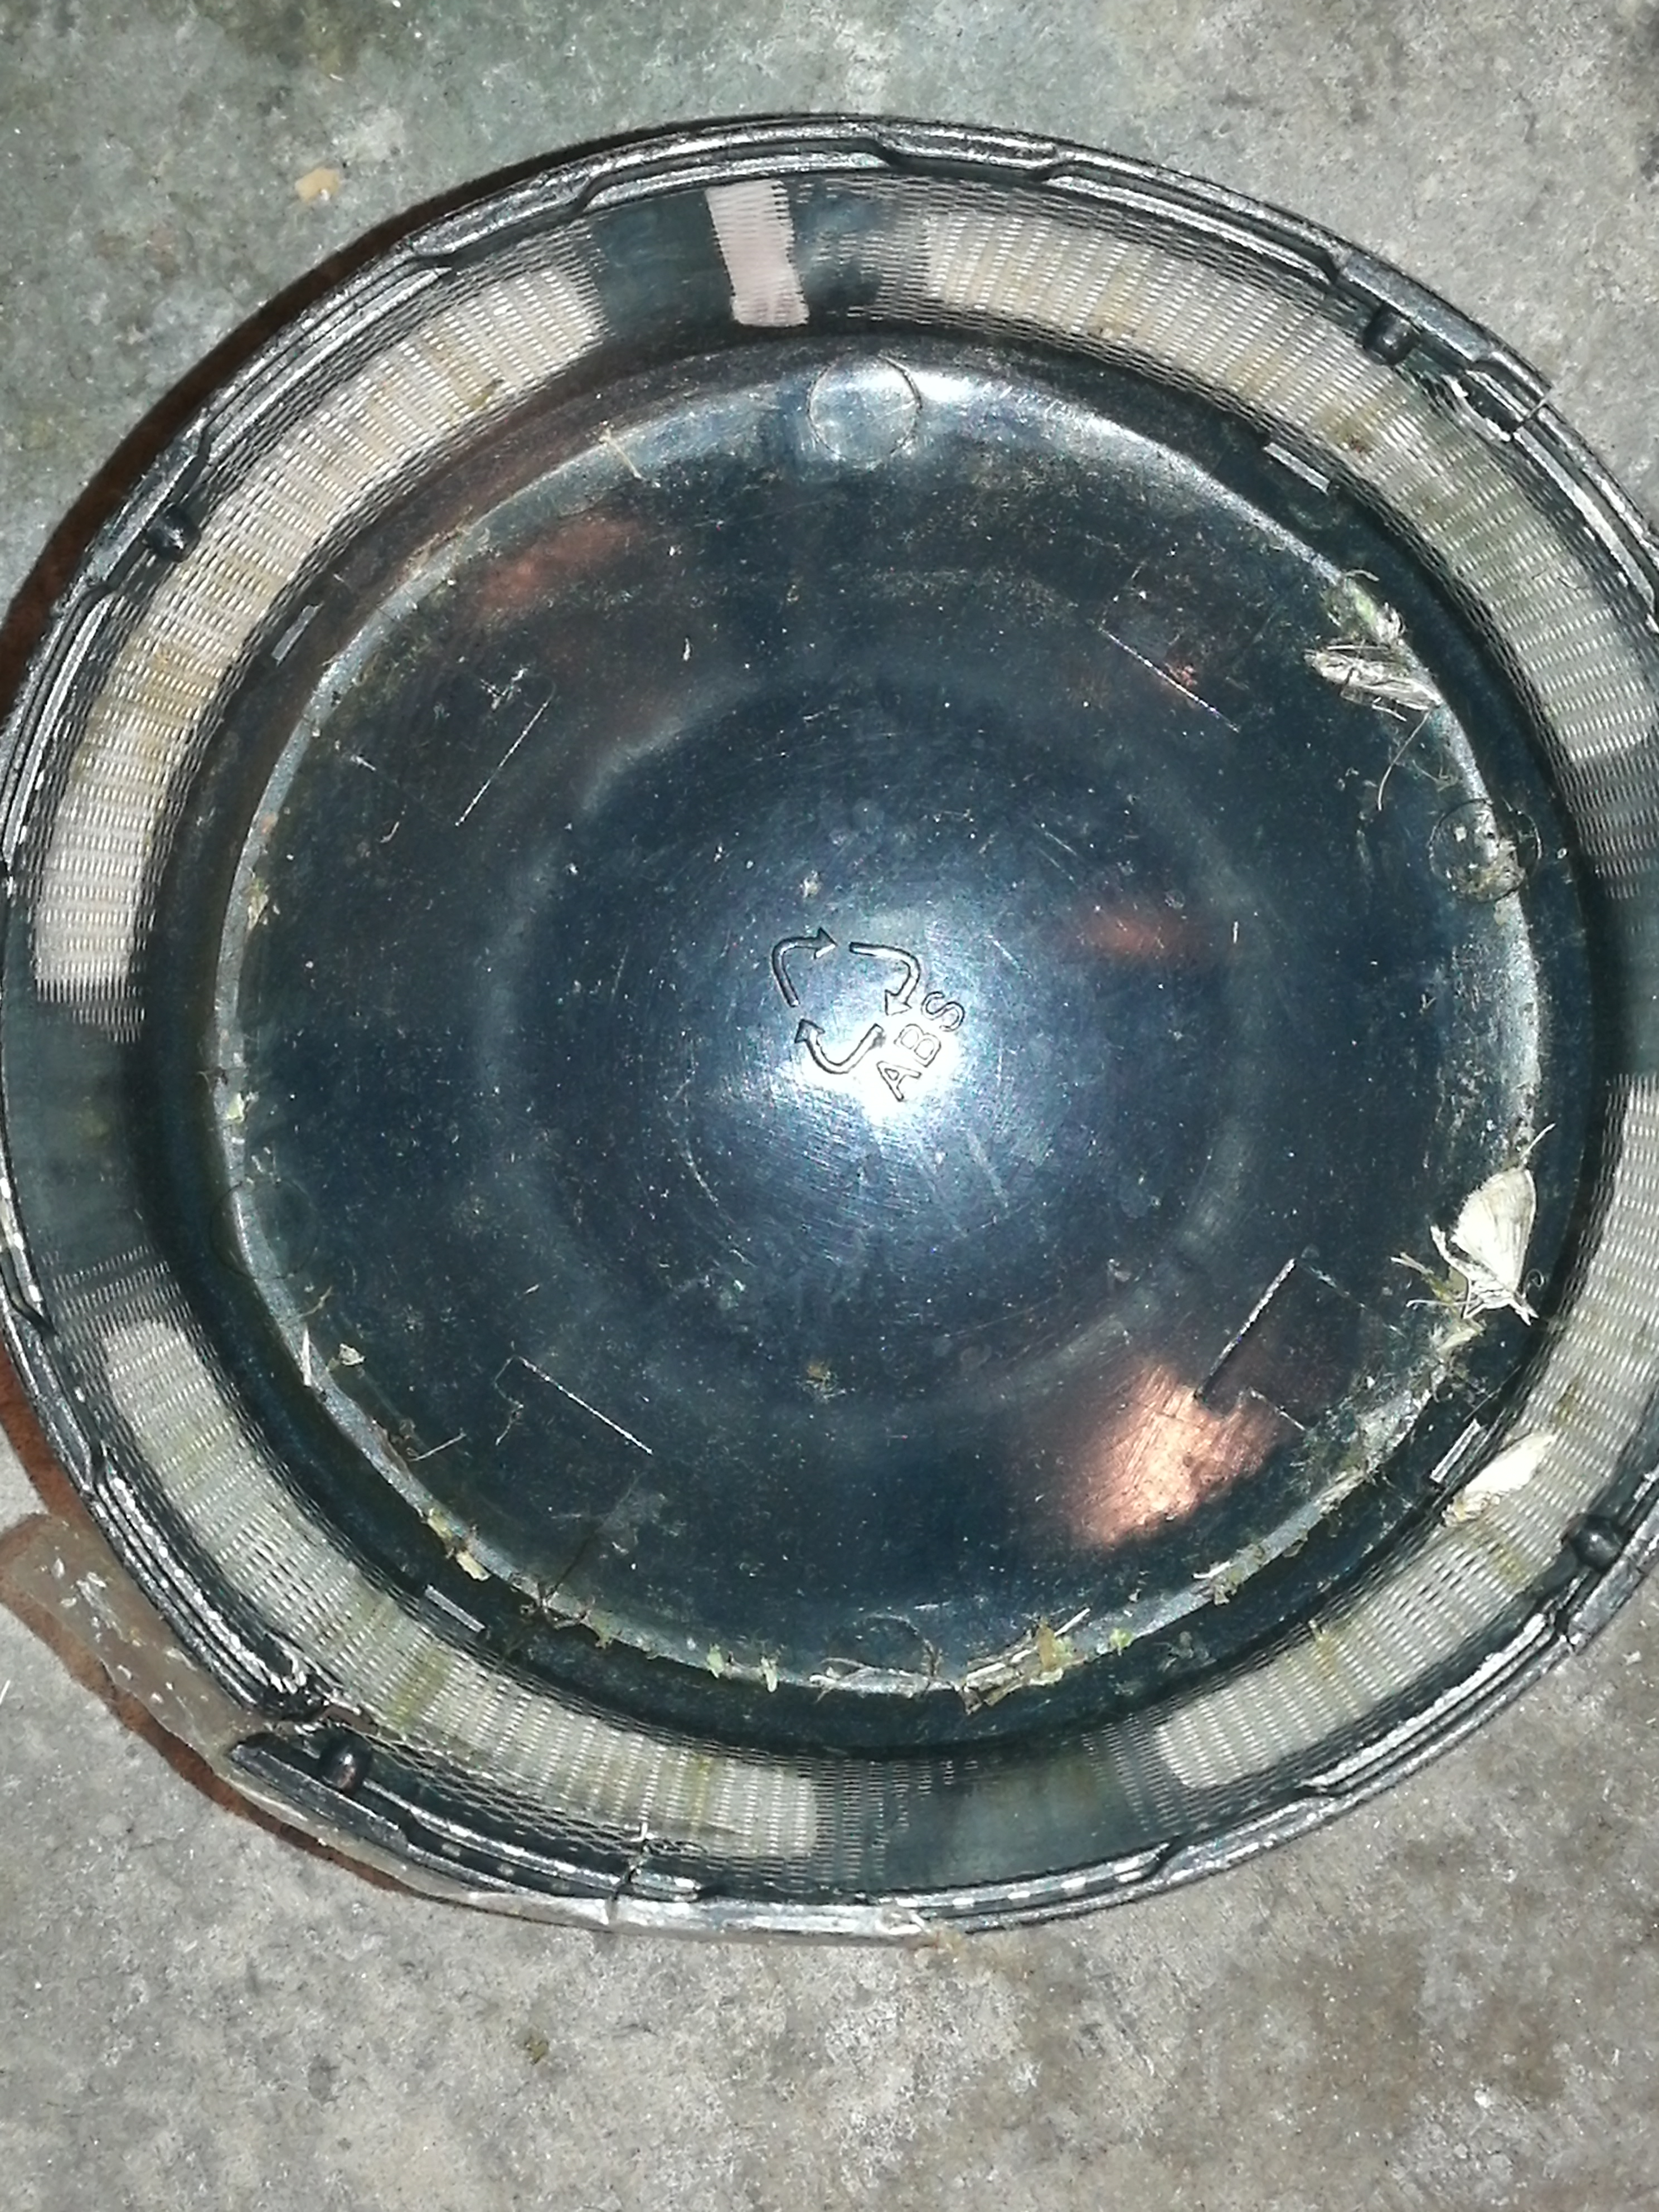mosquito: (1445, 1430, 1546, 1522), (1302, 651, 1438, 711), (1342, 578, 1408, 658)
moth: (1431, 1169, 1535, 1324)
